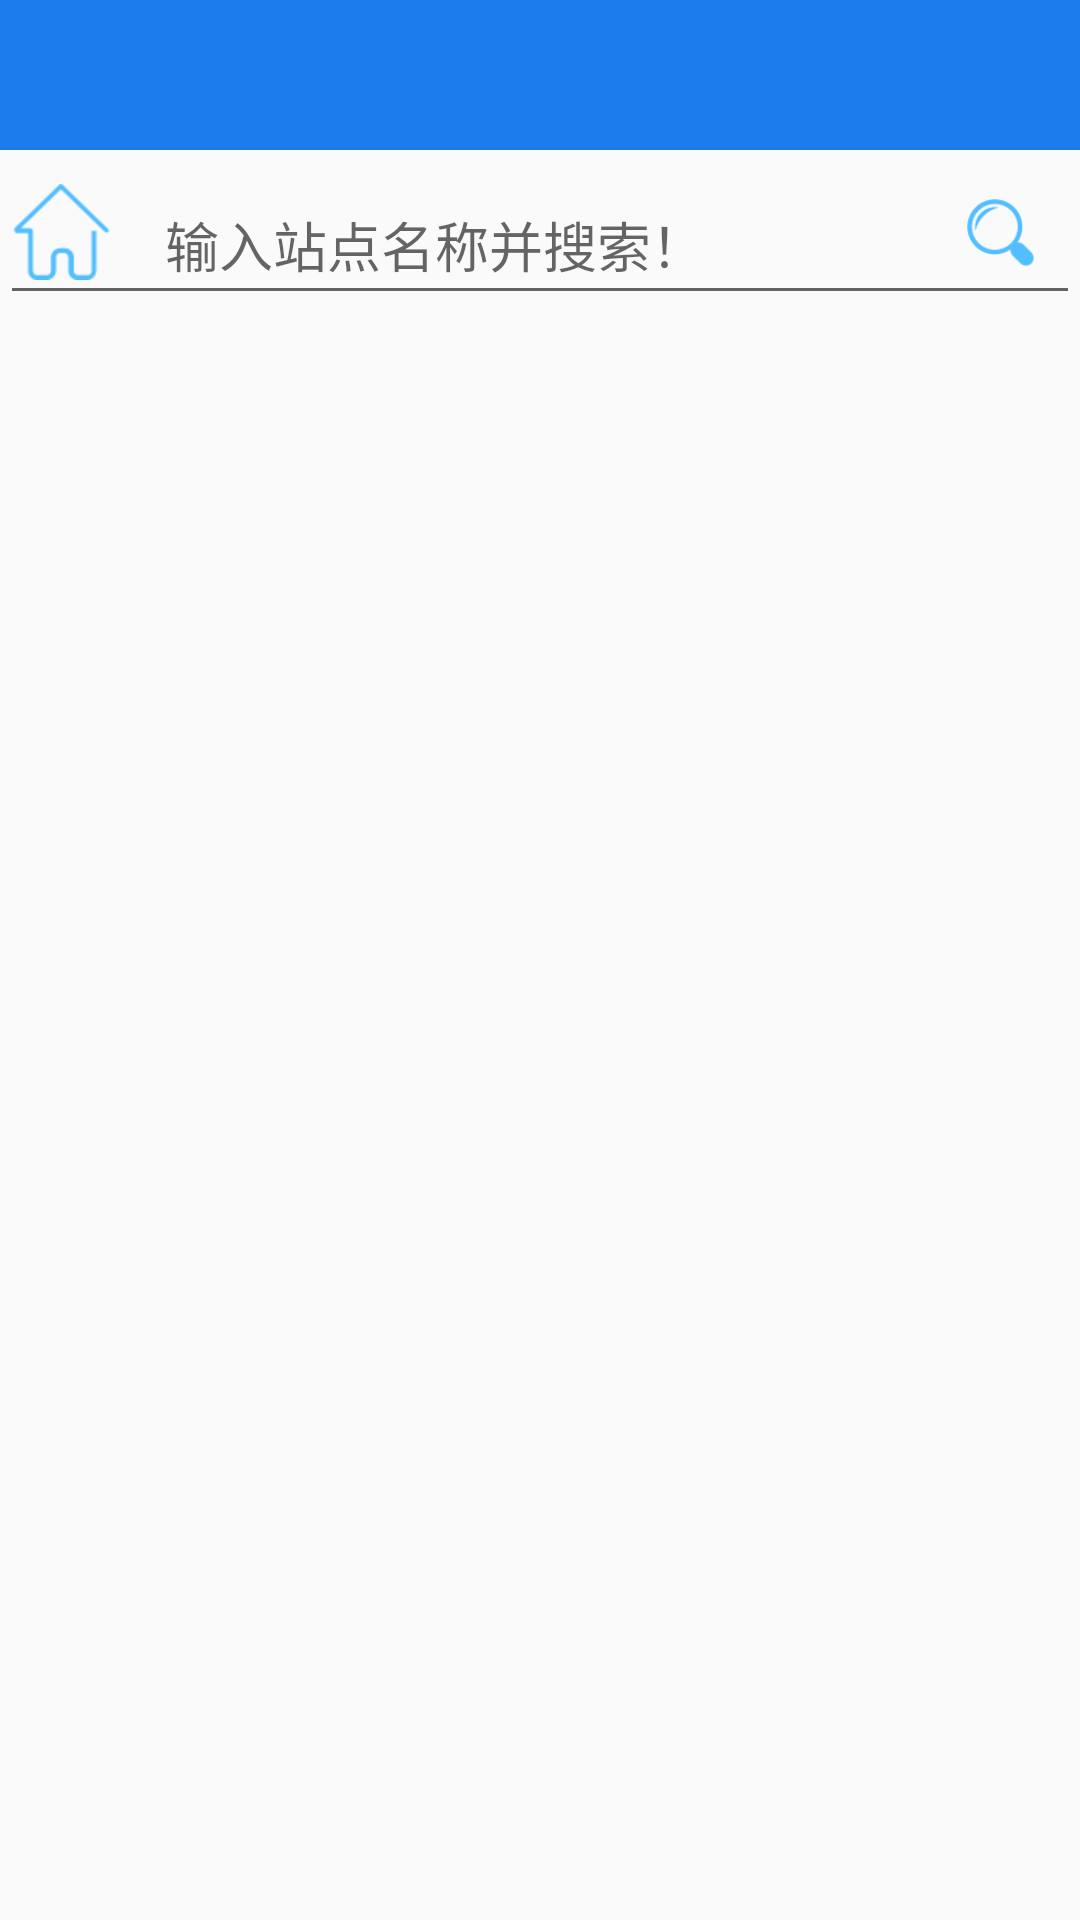

Screen size 1080×1920. Icon name, then its center in pixels as [x,y]:
station search: [1000,232]
